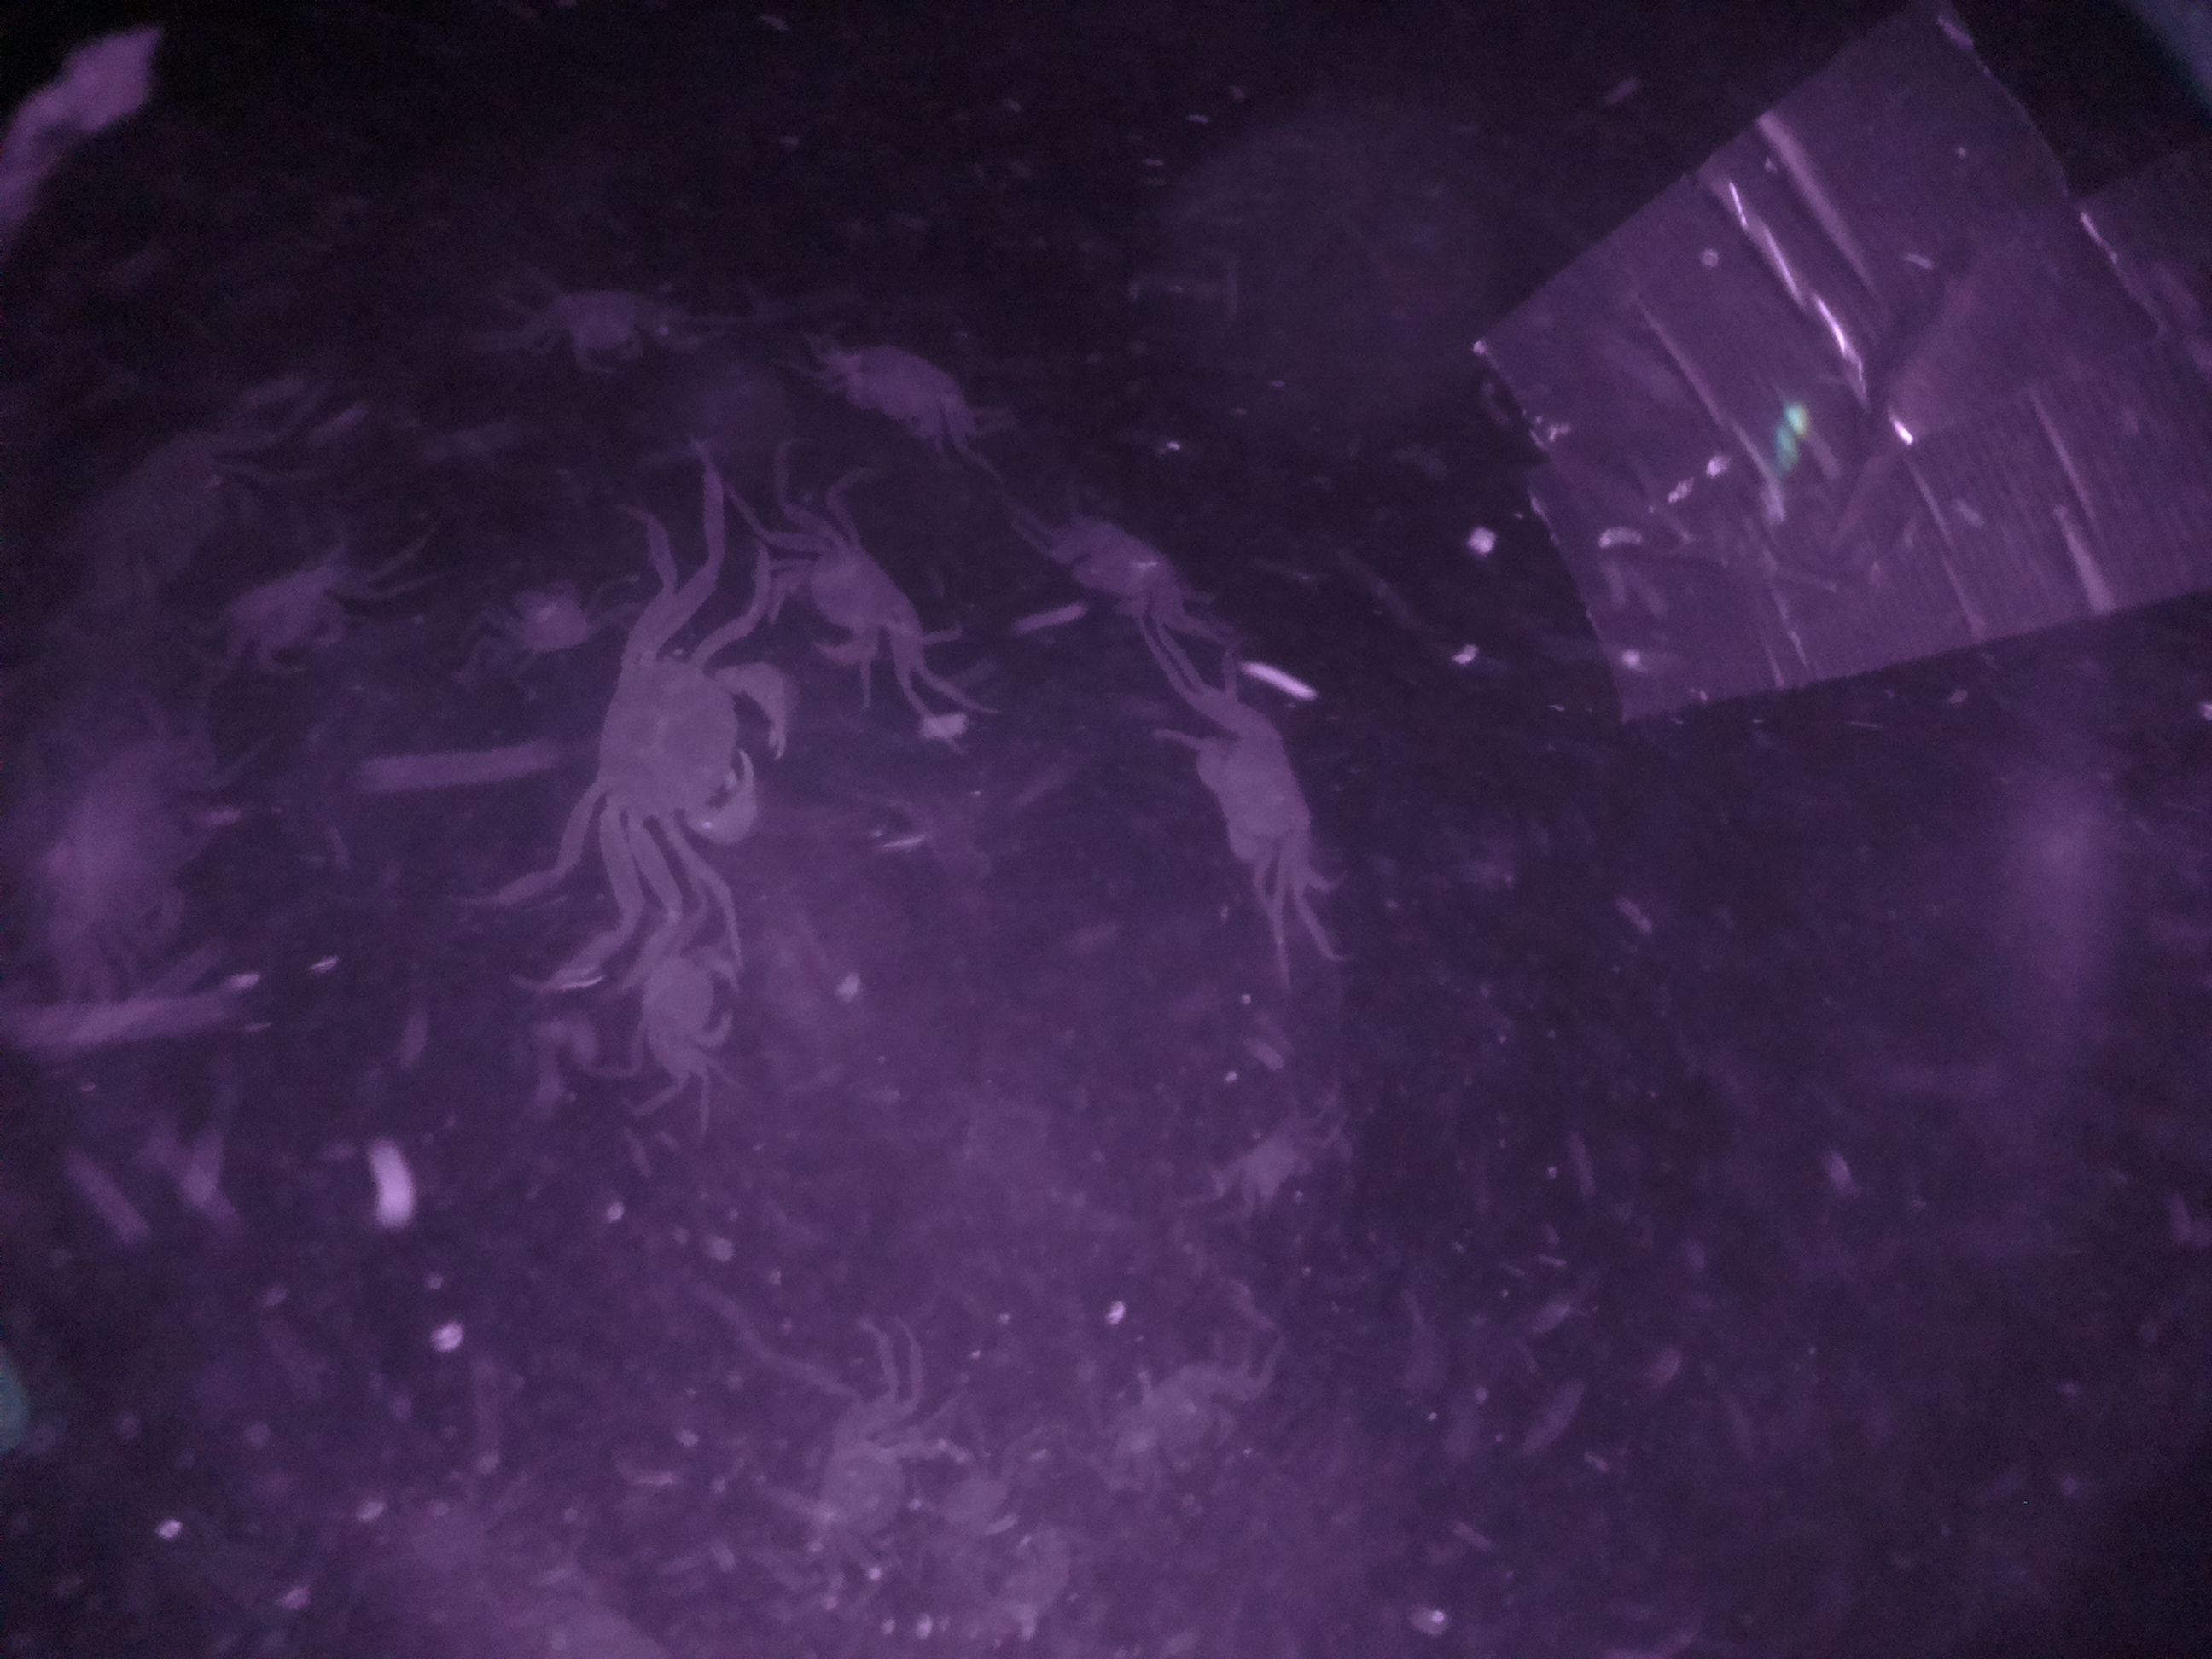Crab: (547, 610, 808, 899), (745, 500, 949, 695), (1176, 676, 1341, 904), (613, 920, 759, 1098)
